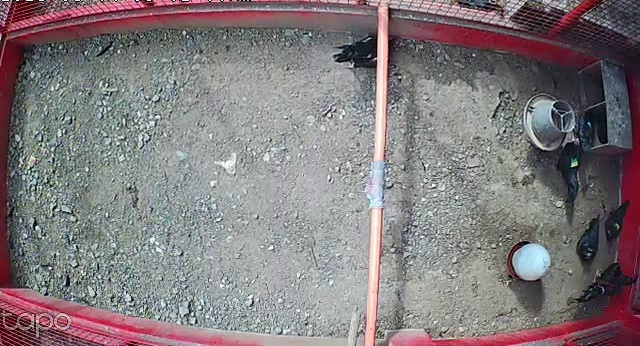Chicken: (331, 26, 402, 72), (547, 135, 584, 206), (569, 102, 600, 156), (575, 214, 604, 266), (603, 197, 631, 244)
Rooster: (574, 257, 637, 308)
Saddle_Color_Yellow: (614, 223, 620, 229)
Saddle_Color_YellowGreen: (569, 155, 579, 167)
